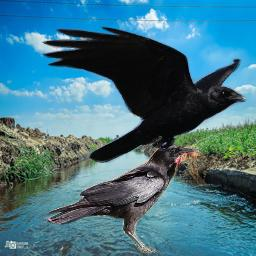Crow: (40, 24, 249, 163), (44, 140, 213, 253)
